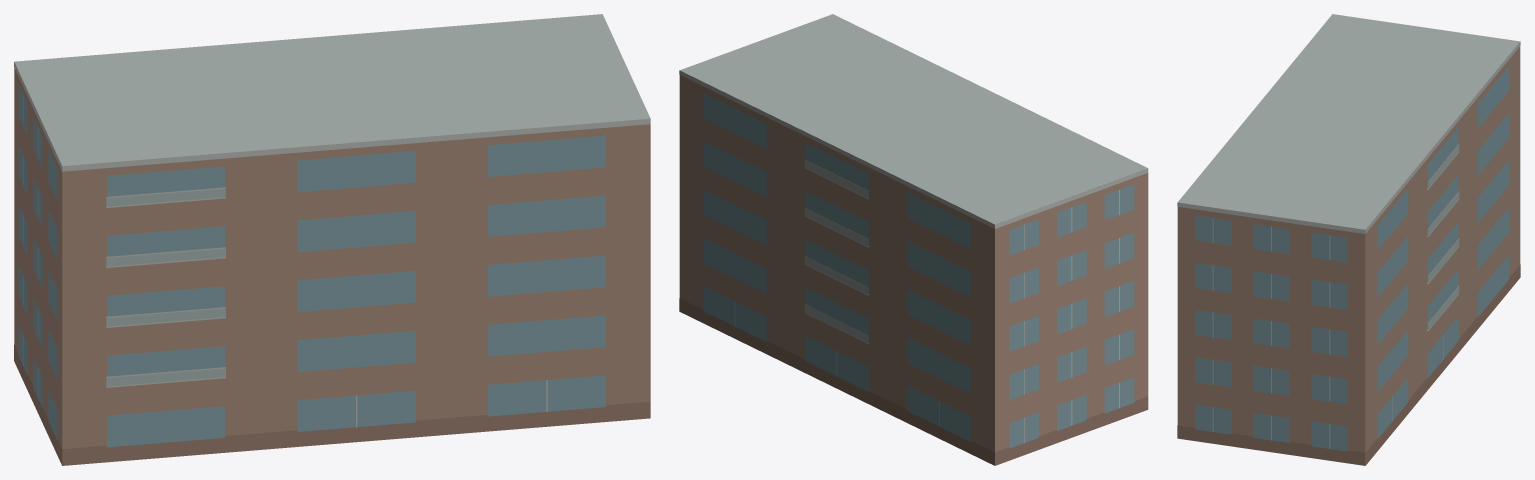
The model's file is survey-upis-32879357.glb.
3 views of the same model, side by side, from view 1: azimuth 30°, elevation 25°; view 2: azimuth 150°, elevation 25°; view 3: azimuth 270°, elevation 25° (orthographic). The views are drawn at different scales.
Parts seen in each view (by area): view 1: survey-upis-32879357.tmp; view 2: survey-upis-32879357.tmp; view 3: survey-upis-32879357.tmp.
Boxes of the visible parts, box(x1,y1,x2,y2) form: survey-upis-32879357.tmp: box(14, 14, 650, 465); survey-upis-32879357.tmp: box(679, 14, 1148, 465); survey-upis-32879357.tmp: box(1177, 14, 1520, 465).
Bounding box in the file's own units: 26.28 × 13.4 × 17.65.
